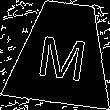M_N: (34, 25, 90, 81)
